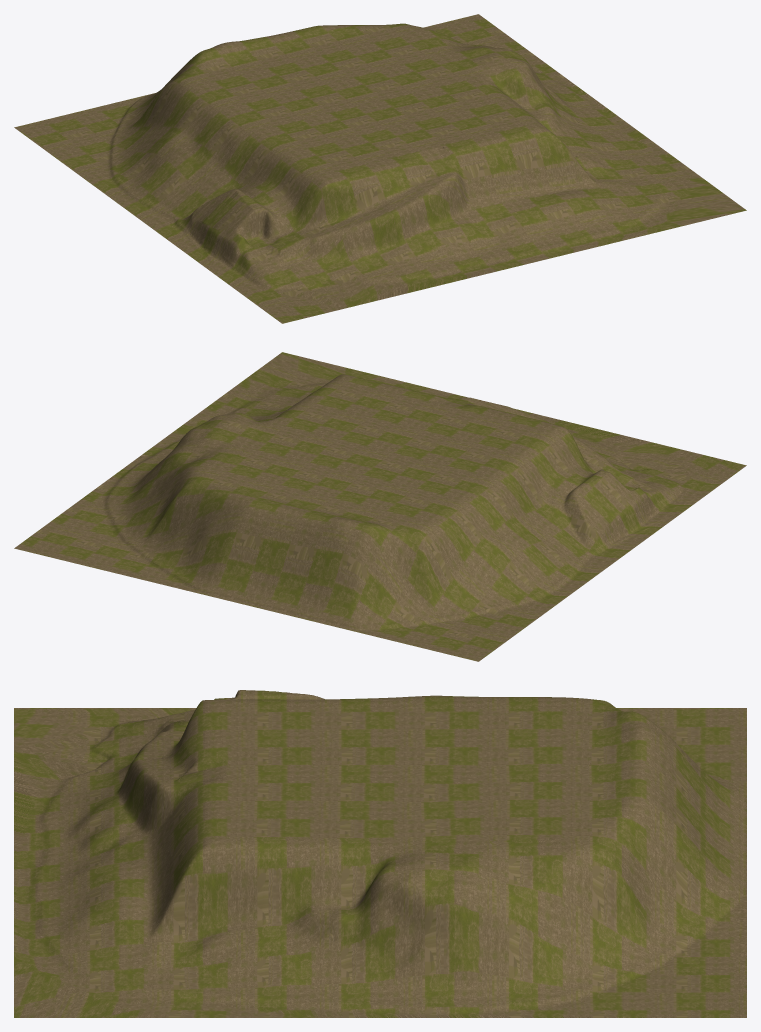
File: lod-performance.glb
The picture shows the model from 3 angles, top to bottom: view 1: azimuth 30°, elevation 25°; view 2: azimuth 150°, elevation 25°; view 3: azimuth 270°, elevation 25°; orthographic projection. The views are drawn at different scales.
Parts seen in each view (by area): view 1: Source mountain continuous surface; view 2: Source mountain continuous surface; view 3: Source mountain continuous surface.
Part boxes in pixels (<box>): Source mountain continuous surface: <box>14,14,746,323</box>; Source mountain continuous surface: <box>14,352,746,661</box>; Source mountain continuous surface: <box>14,690,746,1017</box>.
Size of the model in its own units: 280 by 40.26 by 280.
1 material, 1 textured.
